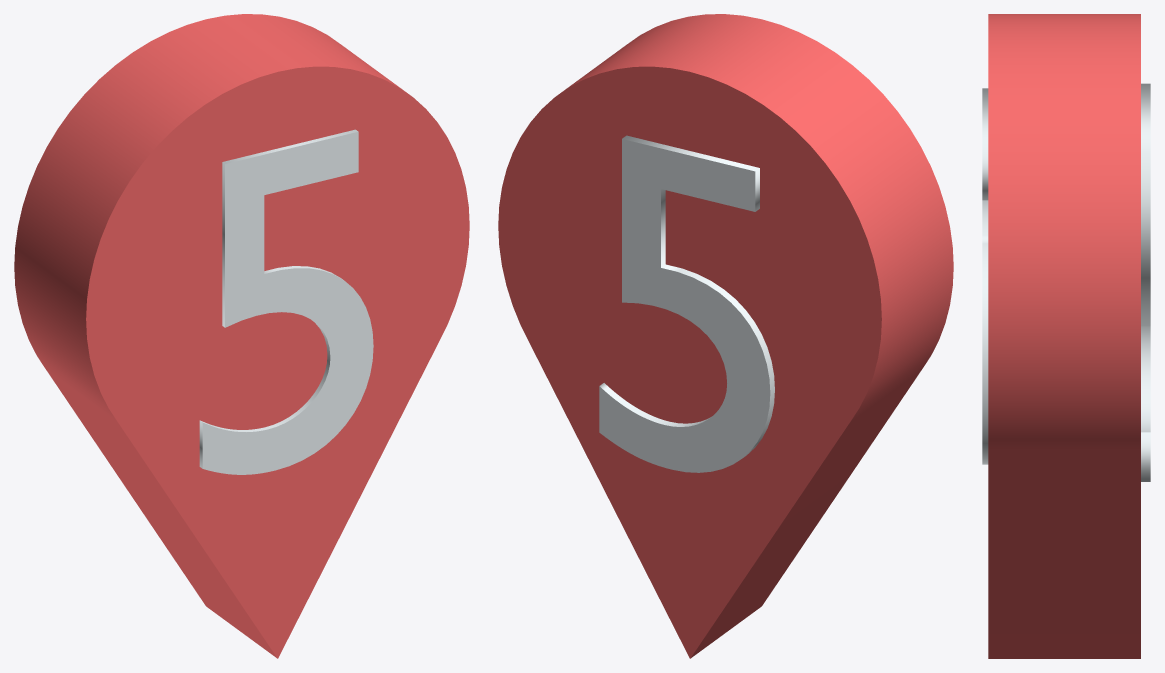
File: zyouhou_point_a.glb
3 views of the same model, side by side, from view 1: azimuth 30°, elevation 25°; view 2: azimuth 150°, elevation 25°; view 3: azimuth 270°, elevation 25° (orthographic). The views are drawn at different scales.
Visible parts, largest first — view 1: 円.004, テキスト.008; view 2: 円.004, テキスト.007; view 3: 円.004, テキスト.007, テキスト.008.
Boxes of the visible parts, bbox=[...] form: 円.004: bbox=[14, 14, 469, 658]; テキスト.008: bbox=[199, 129, 373, 474]; 円.004: bbox=[498, 14, 953, 658]; テキスト.007: bbox=[599, 135, 774, 472]; 円.004: bbox=[988, 14, 1140, 658]; テキスト.007: bbox=[1141, 83, 1150, 481]; テキスト.008: bbox=[982, 88, 988, 464].
Bounding box in the file's own units: 2 × 2.92 × 0.7172.
3 materials, 3 textured.
